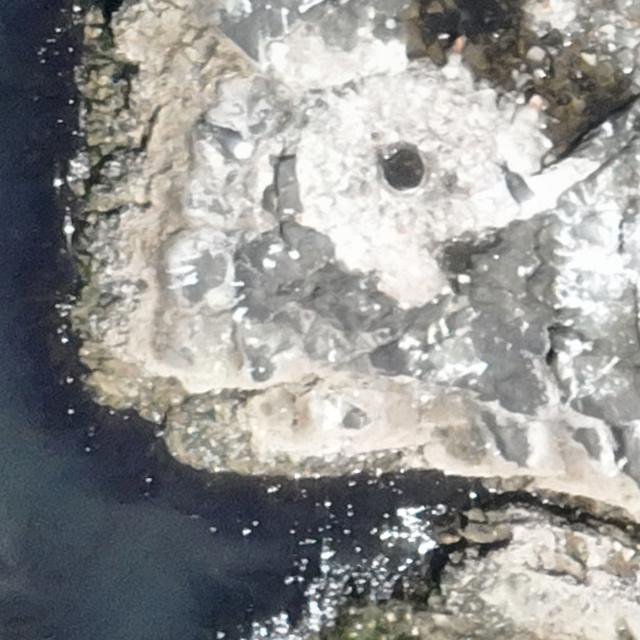umineko: (509, 174, 544, 219), (209, 135, 256, 162)
